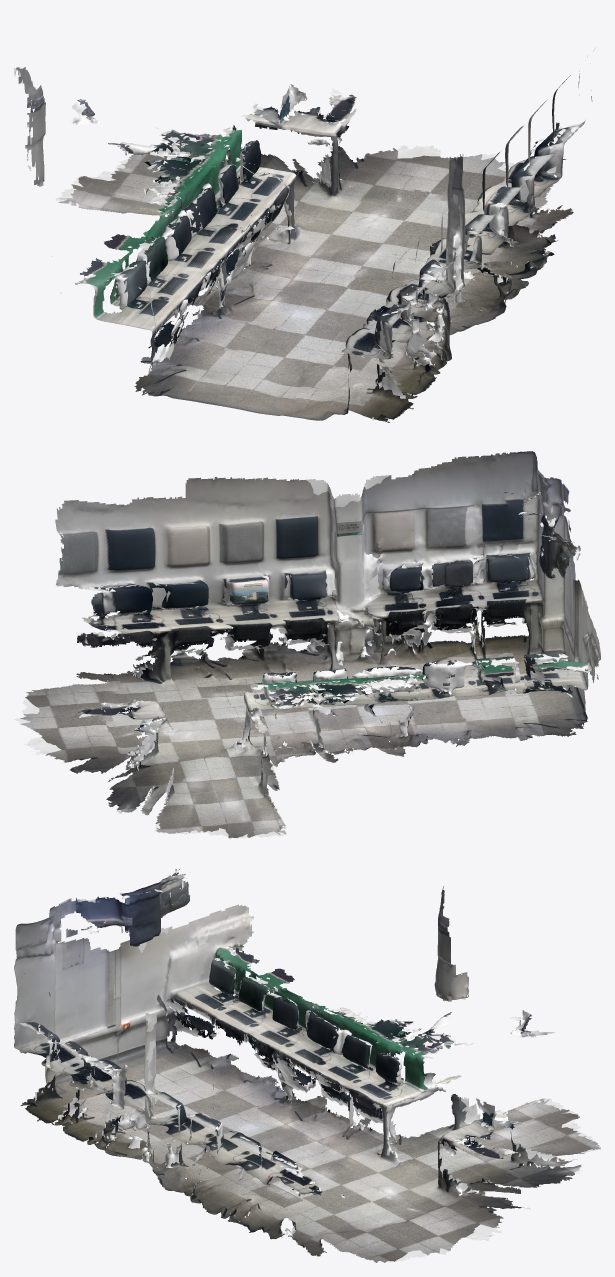
The picture shows the model from 3 angles, top to bottom: view 1: azimuth 30°, elevation 25°; view 2: azimuth 150°, elevation 25°; view 3: azimuth 270°, elevation 25°; orthographic projection. The views are drawn at different scales.
Parts seen in each view (by area): view 1: texture_2, texture_3, texture_0, texture_1, texture_4, object 1; view 2: texture_2, texture_4, texture_1, texture_3, object 1, texture_0; view 3: texture_2, texture_3, texture_1, texture_0, texture_4, object 1.
Part boxes in pixels (left/top/right/bottom): texture_2: left=164, top=49, right=594, bottom=372; texture_3: left=16, top=67, right=355, bottom=366; texture_0: left=60, top=190, right=309, bottom=415; texture_1: left=134, top=162, right=466, bottom=422; texture_4: left=22, top=70, right=544, bottom=399; object 1: left=14, top=68, right=580, bottom=419; texture_2: left=20, top=496, right=503, bottom=823; texture_4: left=141, top=477, right=560, bottom=762; texture_1: left=323, top=451, right=586, bottom=736; texture_3: left=84, top=485, right=584, bottom=838; object 1: left=14, top=475, right=597, bottom=838; texture_0: left=356, top=513, right=600, bottom=748; texture_2: left=144, top=1027, right=584, bottom=1262; texture_3: left=44, top=869, right=600, bottom=1193; texture_1: left=14, top=903, right=286, bottom=1164; texture_0: left=65, top=872, right=345, bottom=1121; texture_4: left=58, top=874, right=468, bottom=1226; object 1: left=33, top=869, right=600, bottom=1261.
Bounding box in the file's own units: 7.2 × 2.62 × 7.2.
6 materials, 5 textured.
